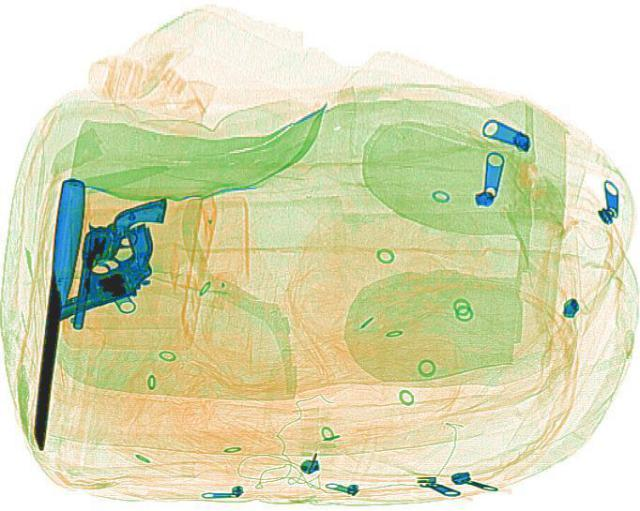Gun: (17, 220, 182, 321), (68, 191, 165, 334)
Knife: (22, 176, 88, 447)
